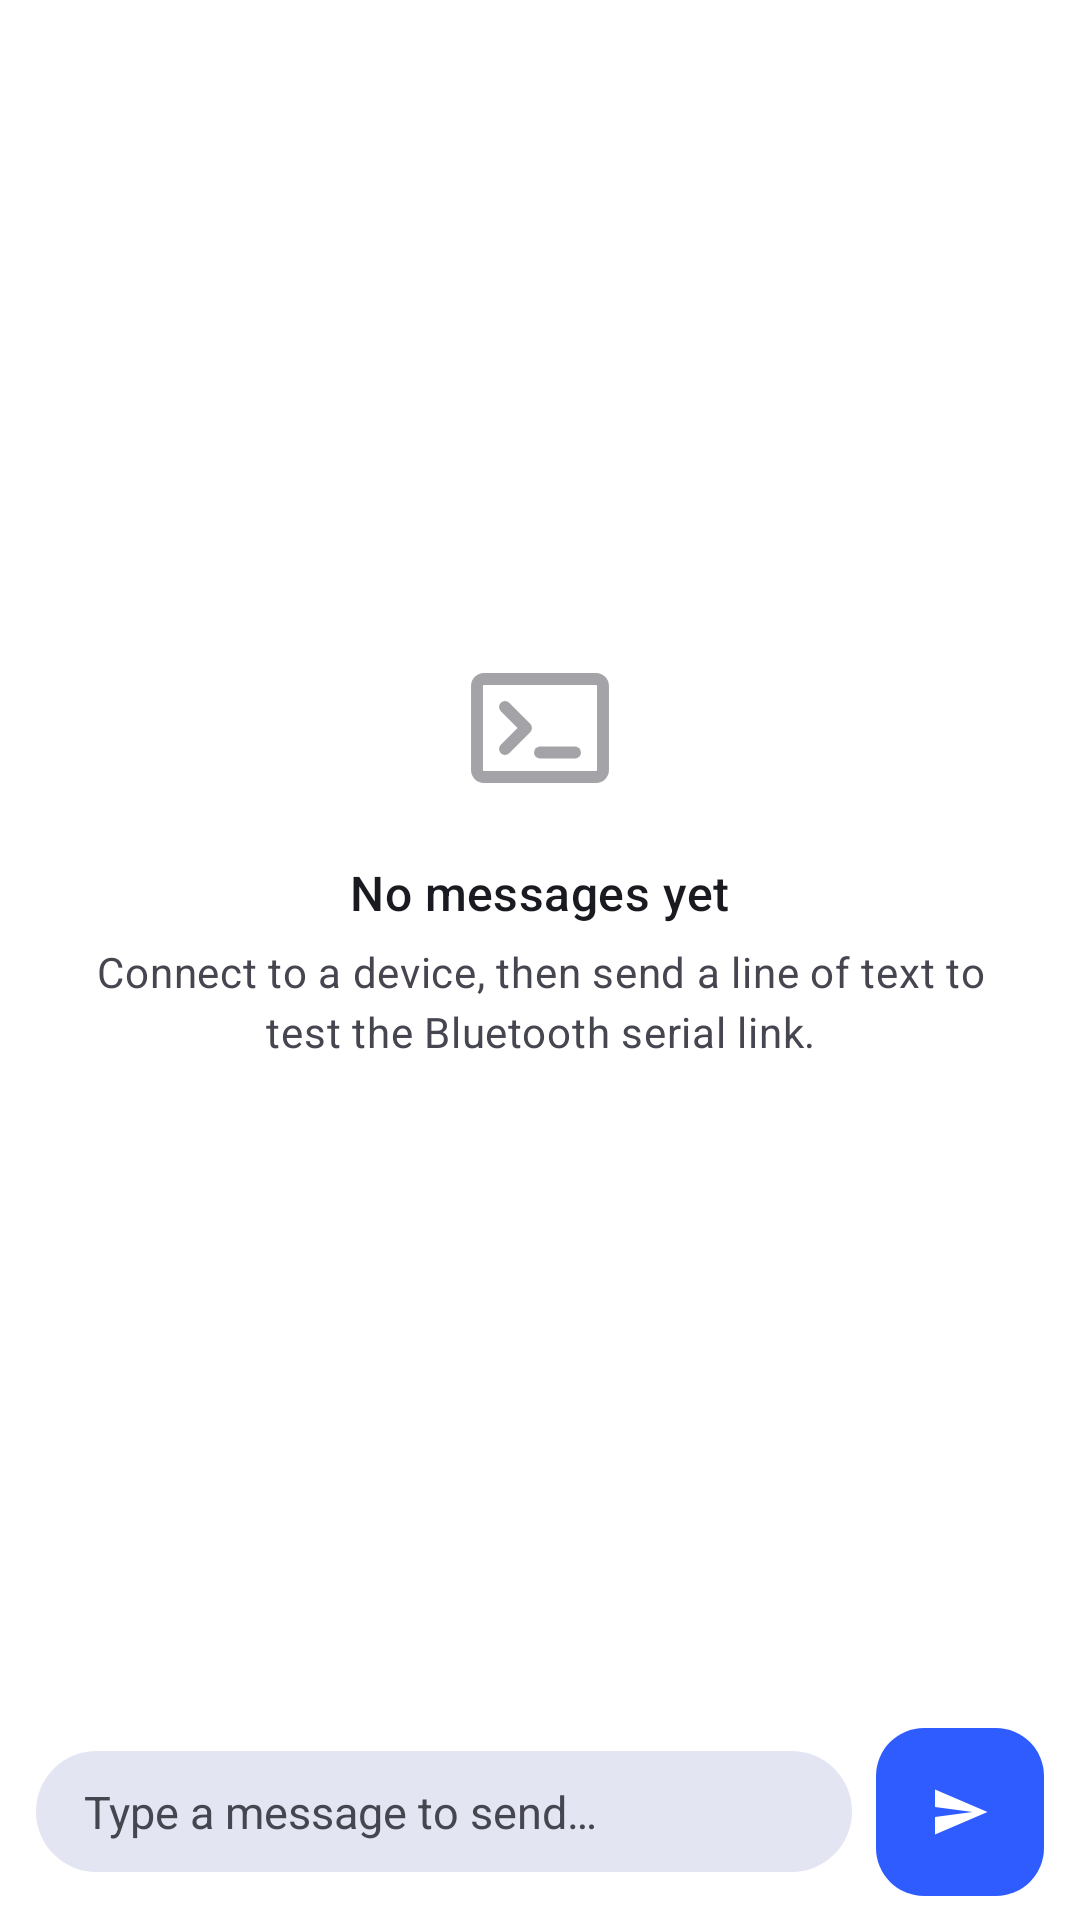

Screen size 1080px×1920px. Icon name, then its box in pixels as rect(x1, y1, x2, y2):
terminal: rect(471, 673, 609, 783)
